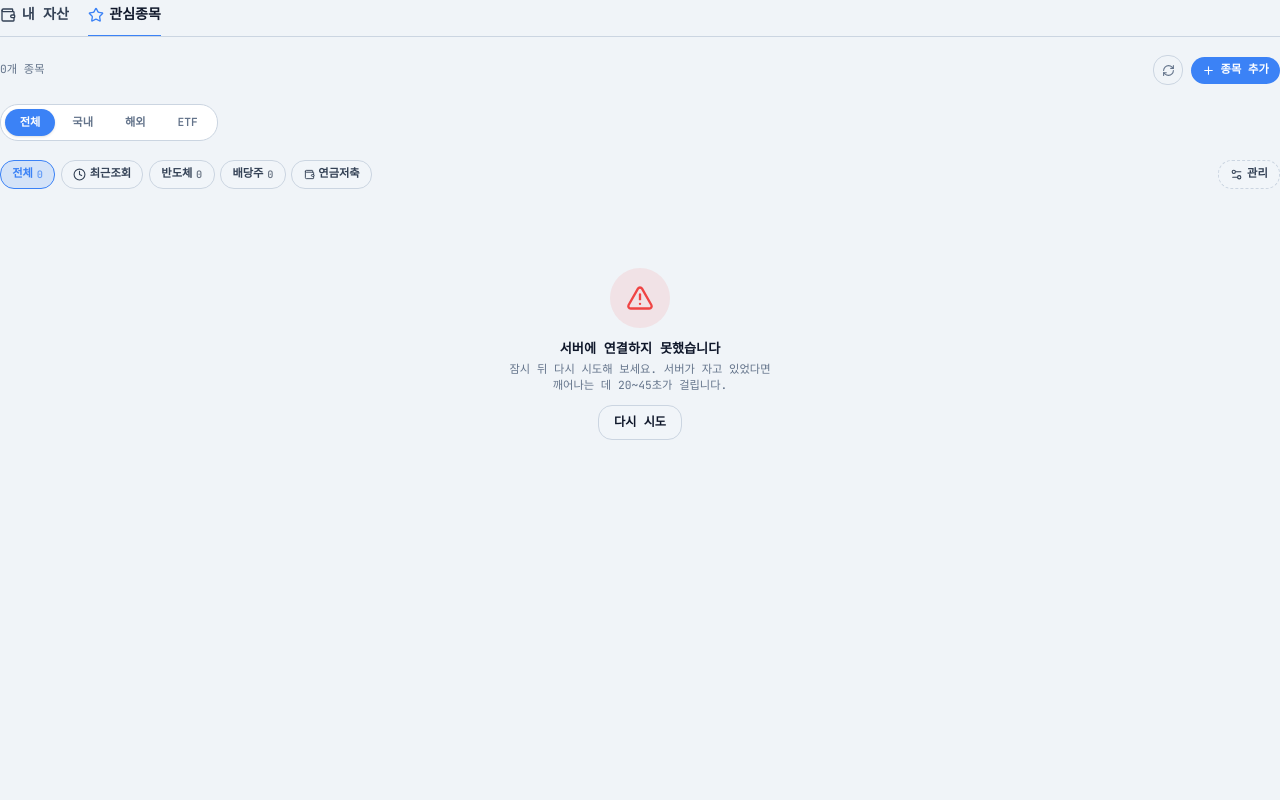
Test: 순서 바꾸기 › 탭 관리 창에 최근조회와 내계좌도 들어 있다
Click the button with aria-label "탭 관리". click: (1249, 174)
box: [1218,160,1279,189]
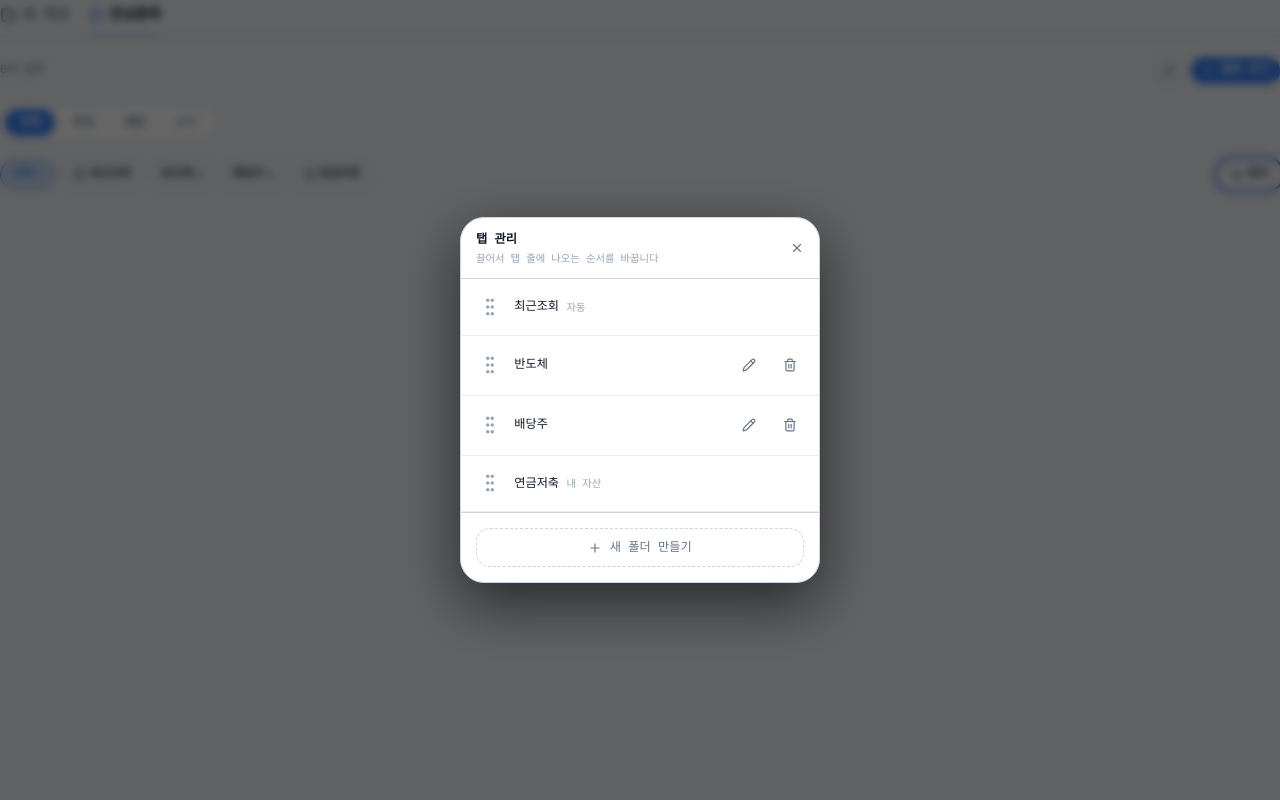
Check: the number of buttons named "순서 바꾸기" is 4, box [476,294,503,320]; [476,352,503,378]; [476,412,503,438]; [476,471,503,496]
